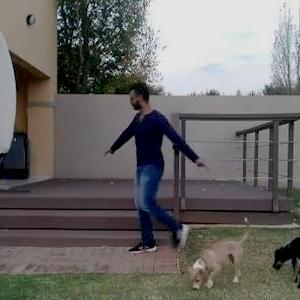land: (105, 81, 222, 251)
